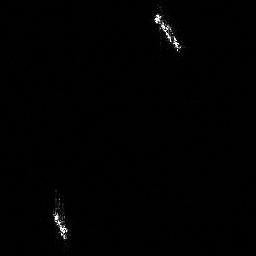ship: (149, 8, 185, 53), (47, 204, 74, 243)
